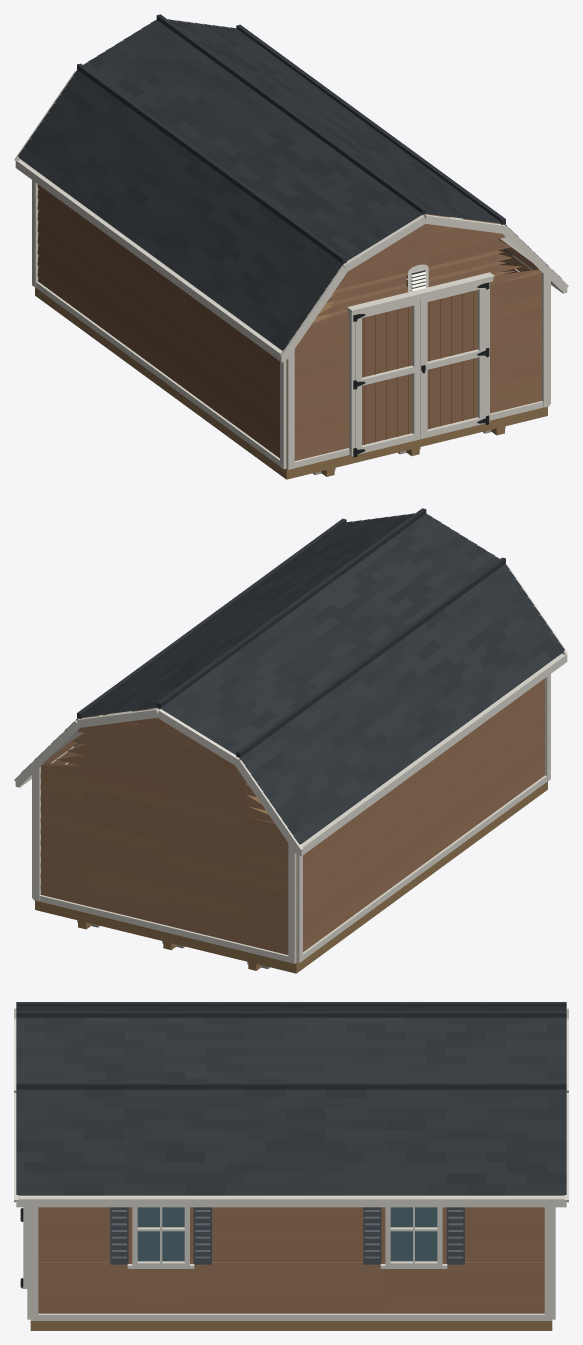
File: 06-elite-lofted-barn-shutters.glb
3 views of the same model, one above another, from view 1: azimuth 30°, elevation 25°; view 2: azimuth 150°, elevation 25°; view 3: azimuth 270°, elevation 25° (orthographic). The views are drawn at different scales.
Visible parts, largest first — view 1: Main roof, left wall, front wall, front wall double, Floor platform and skids, right wall; view 2: Main roof, rear wall, left wall, Floor platform and skids, right wall; view 3: Main roof, right wall, right wall window, Floor platform and skids, Louvered window shutters, front wall double, front wall, rear wall.
Part boxes in pixels (bbox=[...]): Main roof: bbox=[14, 14, 568, 362]; left wall: bbox=[32, 180, 286, 469]; front wall: bbox=[286, 213, 549, 469]; front wall double: bbox=[347, 272, 494, 456]; Floor platform and skids: bbox=[35, 287, 547, 479]; right wall: bbox=[406, 239, 550, 404]; Main roof: bbox=[14, 508, 568, 856]; rear wall: bbox=[33, 708, 296, 963]; left wall: bbox=[296, 674, 550, 963]; Floor platform and skids: bbox=[35, 781, 547, 973]; right wall: bbox=[32, 718, 157, 898]; Main roof: bbox=[14, 1002, 568, 1207]; right wall: bbox=[30, 1207, 552, 1320]; right wall window: bbox=[127, 1207, 447, 1268]; Floor platform and skids: bbox=[30, 1321, 552, 1330]; Louvered window shutters: bbox=[110, 1207, 464, 1264]; front wall double: bbox=[20, 1207, 27, 1288]; front wall: bbox=[27, 1207, 30, 1319]; rear wall: bbox=[552, 1207, 555, 1319].
Size of the model in its own units: 4.01 by 3.38 by 6.49.
